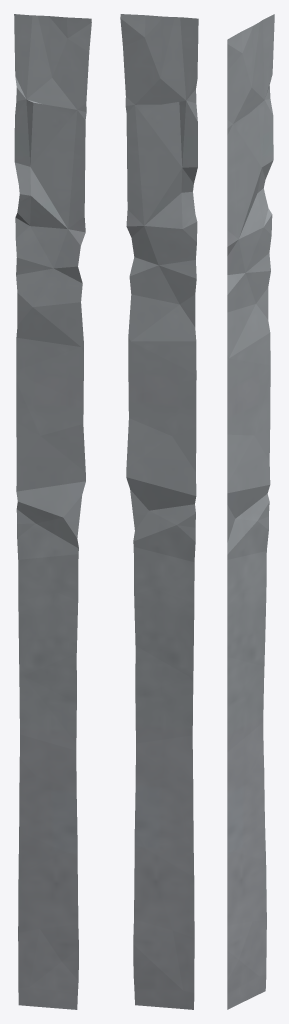
3 views of the same model, side by side, from view 1: azimuth 30°, elevation 25°; view 2: azimuth 210°, elevation 25°; view 3: azimuth 270°, elevation 25° (orthographic).
Bounding box in the file's own units: 0.0952 × 1.67 × 0.074.
Materials: 1 (1 with a texture image).
